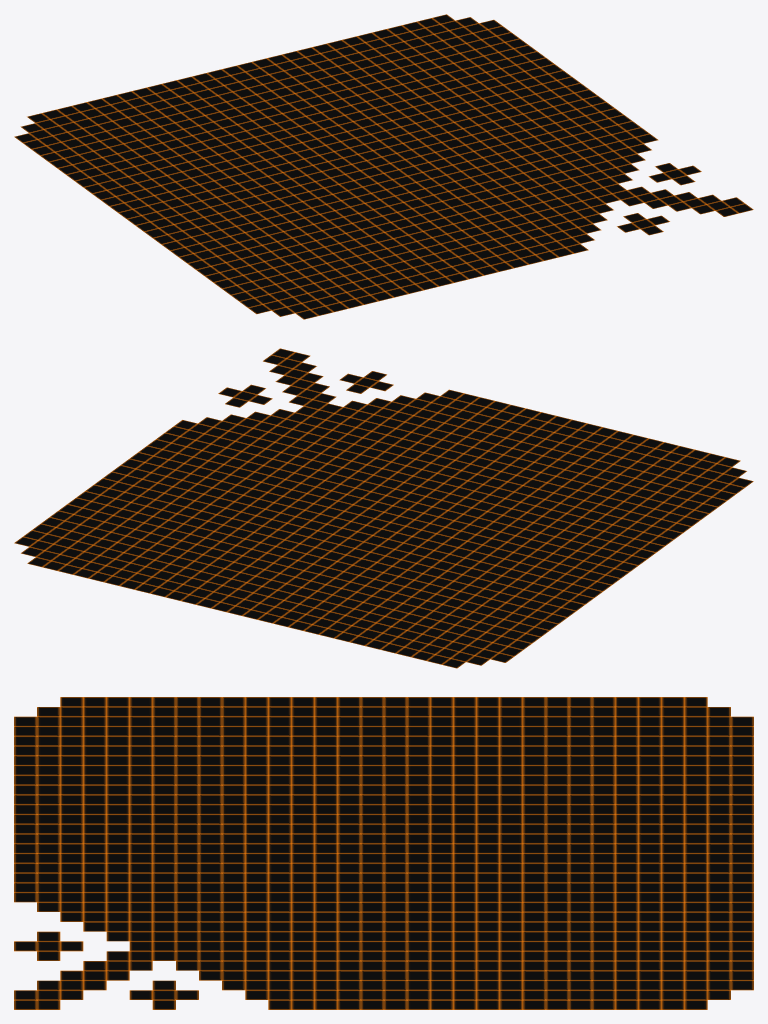
Rendered from map4.fbx.
3 renders of one model, top to bottom at view 1: azimuth 30°, elevation 25°; view 2: azimuth 150°, elevation 25°; view 3: azimuth 270°, elevation 25°, orthographic. The views are drawn at different scales.
Parts seen in each view (by area): view 1: Plane; view 2: Plane; view 3: Plane.
Part boxes in pixels (x1,y1,x2,y2): Plane: (14, 14, 753, 319); Plane: (14, 348, 753, 668); Plane: (14, 697, 753, 1009).
Bounding box in the file's own units: 256 × 1.5e-05 × 256.
1 material, 1 textured.
